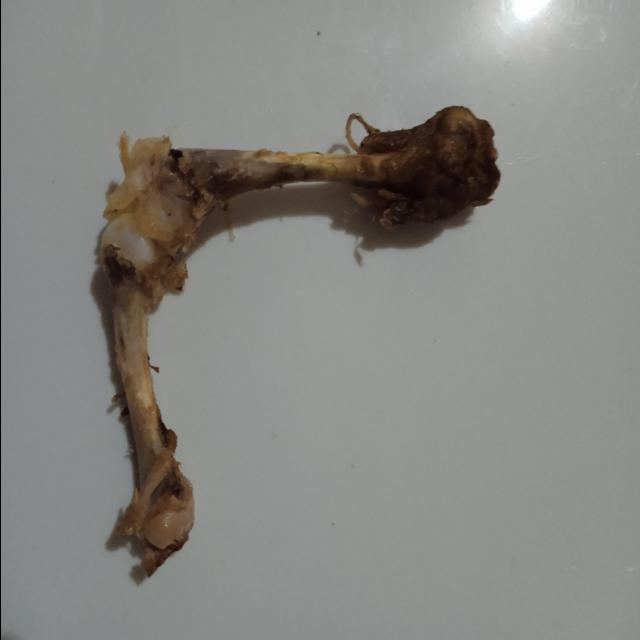bone: (92, 100, 504, 584)
